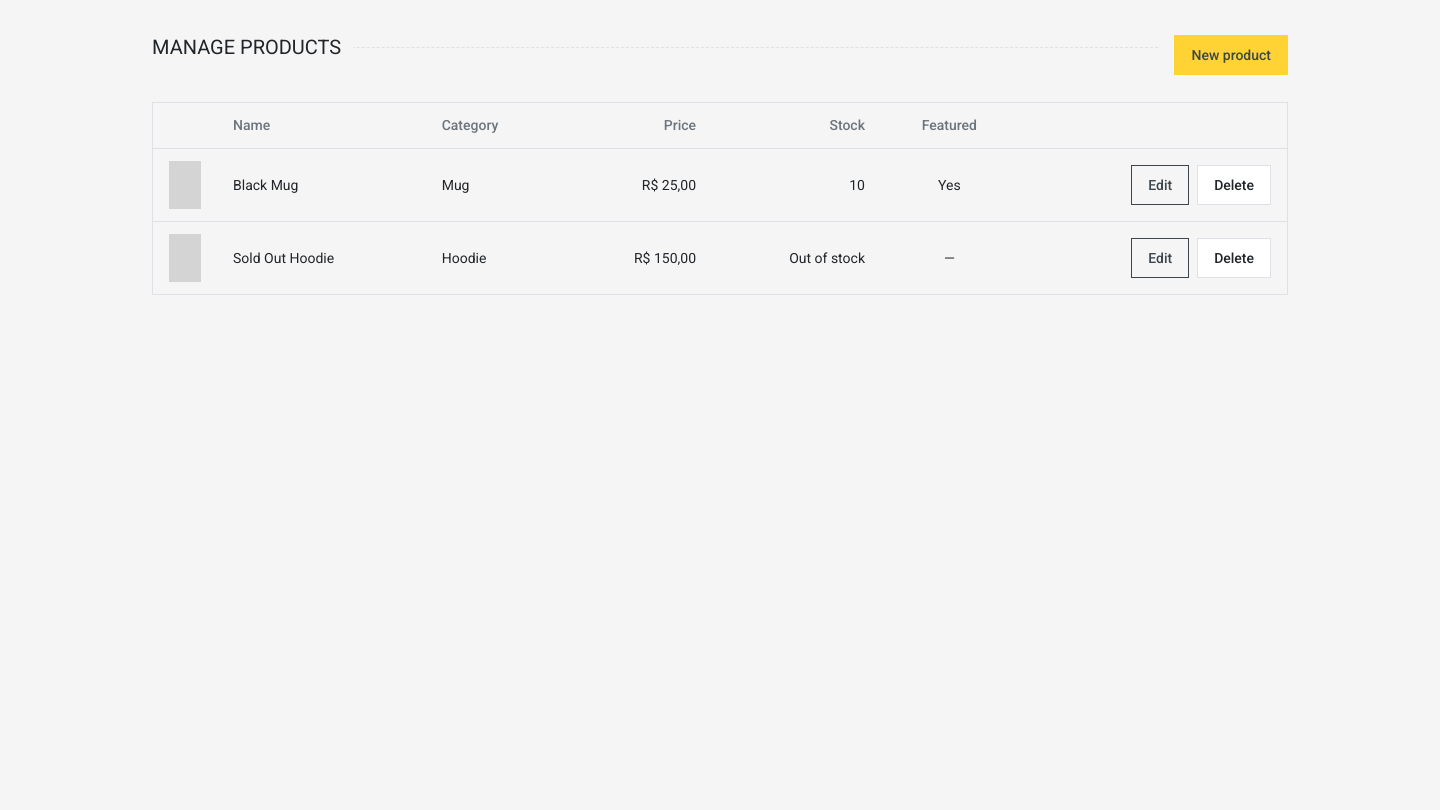
AdminProducts › create (AC-14) › opens the form in a modal and closes it with Cancel
Expected: the text "Black Mug" is shown, [217,148,426,222]
Click the button "New product" at {"x": 1231, "y": 55}, box [1174,35,1288,75]
(page scrolled)
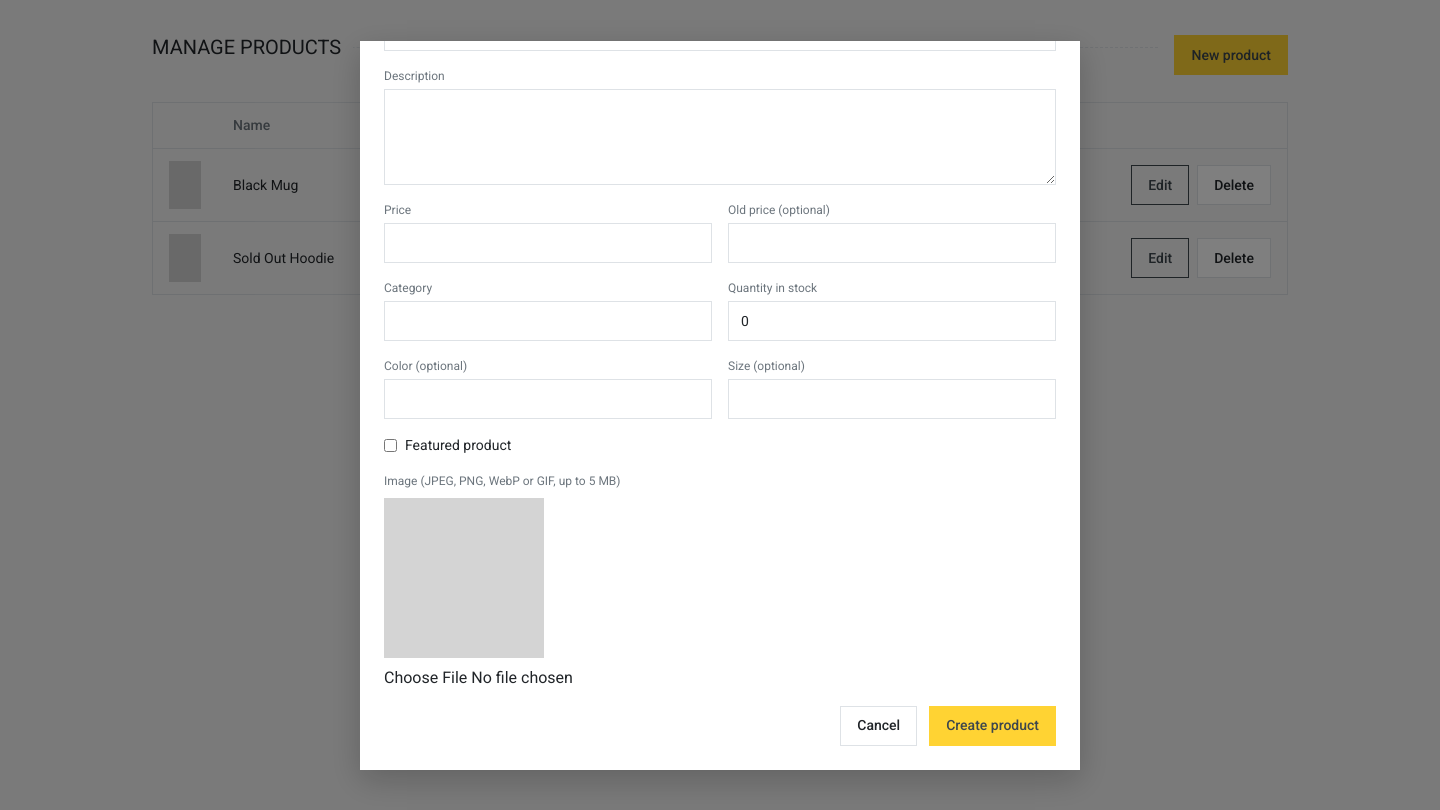
Result: the button "Create product" is shown at [929,706,1056,746]
Click the button "Cancel" at {"x": 879, "y": 726}, box [840,706,917,746]
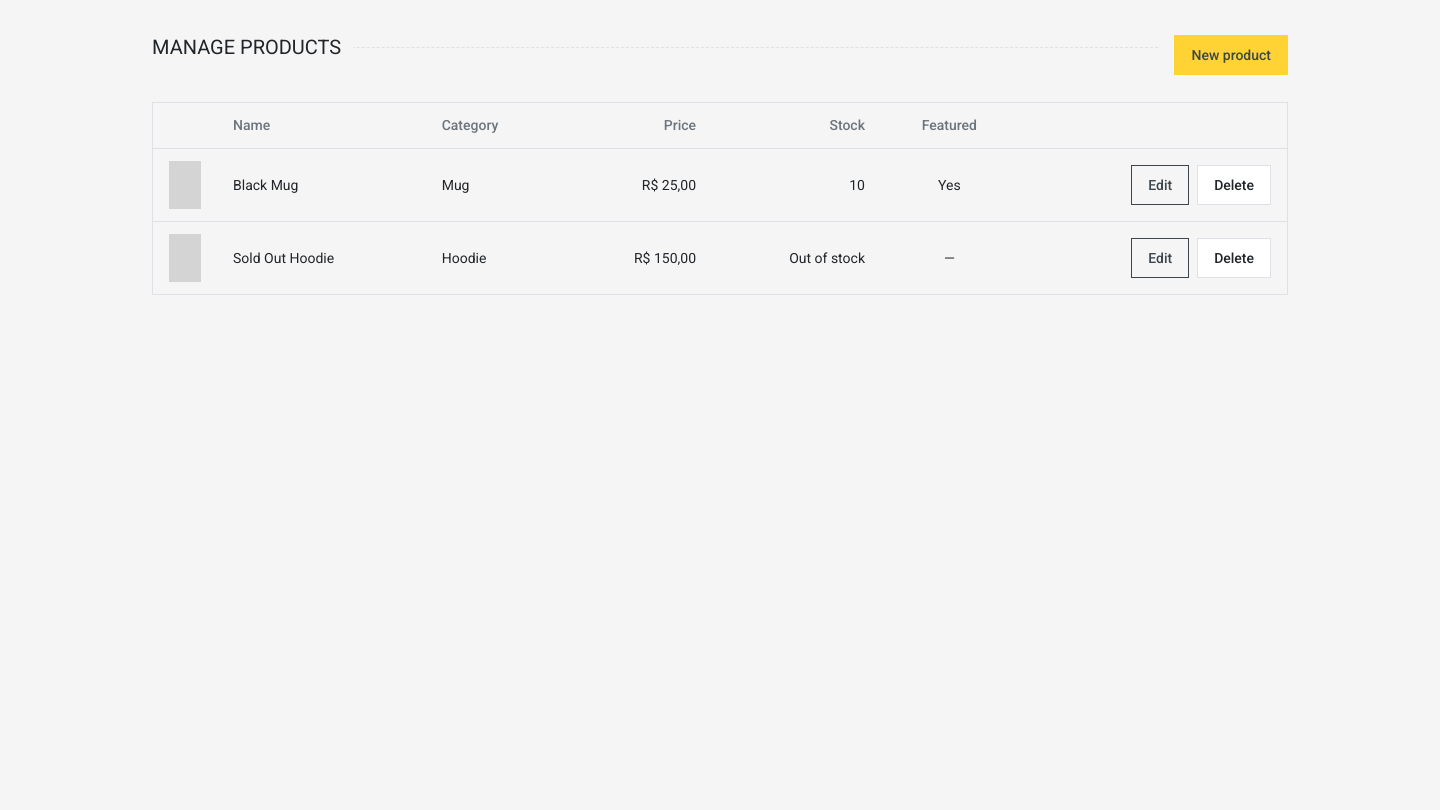
Result: the dialog is gone
